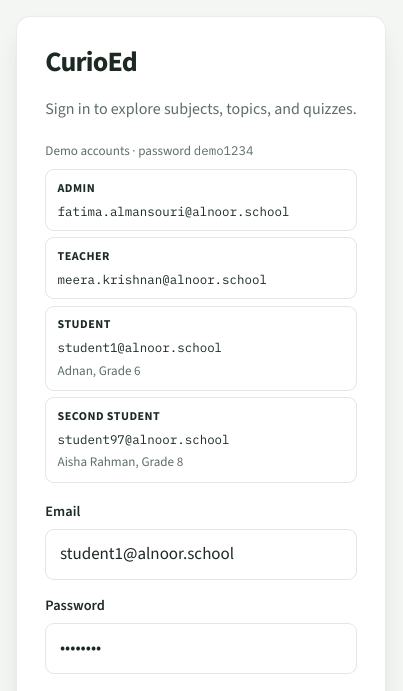
it: WelcomePage demo accounts › lists the seeded Al Noor accounts and fills the form from a click
Expected: the text "CurioEd" is shown, [45, 43, 137, 80]
Expected: the text "Adnan, Grade 6" is shown, [58, 362, 141, 379]
Step 1. Click the button "Admin fatima.almansouri@alnoor.school" → [201, 200], box [45, 169, 357, 231]
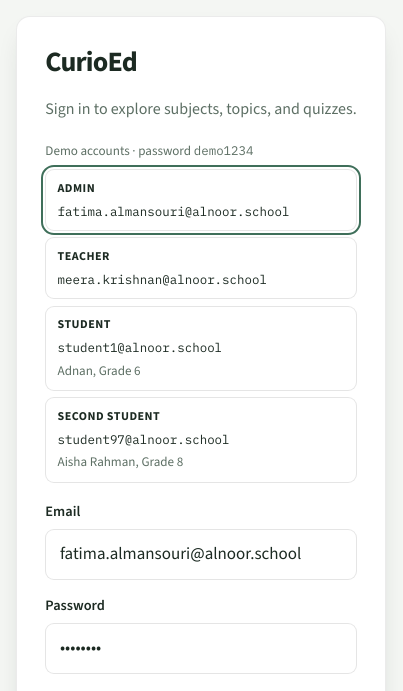
Expected: the password field labelled "Password" holds "demo1234", [45, 623, 357, 674]
Now the field labelled "Email" holds "fatima.almansouri@alnoor.school", box [45, 529, 357, 580]
